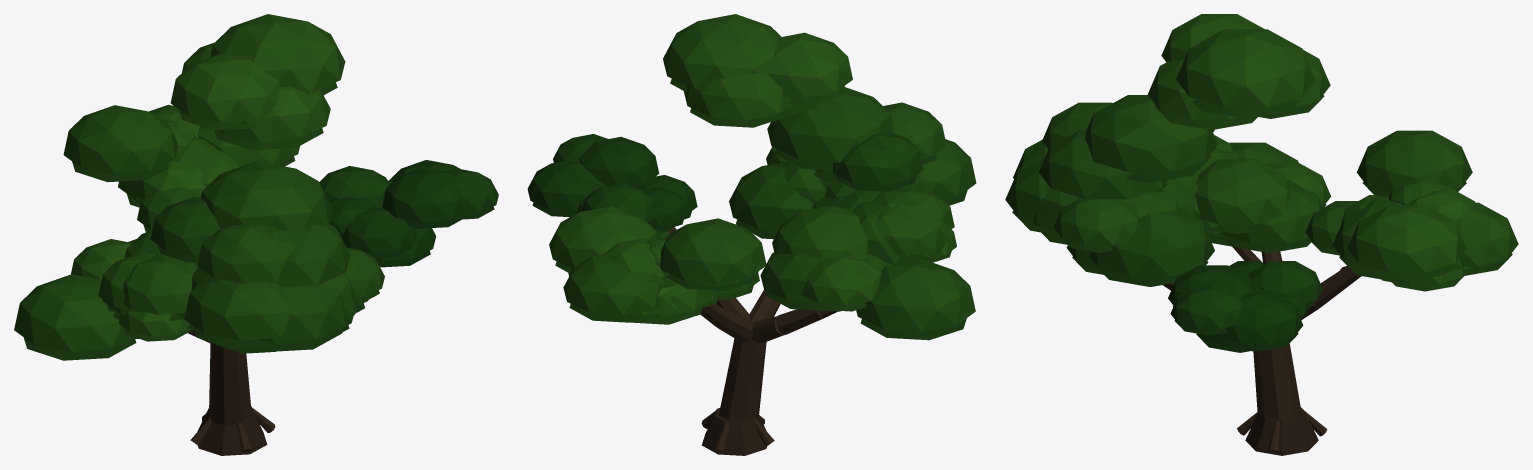
The model's file is tree_oak_2.glb.
The picture shows the model from 3 angles, left to right: view 1: azimuth 30°, elevation 25°; view 2: azimuth 150°, elevation 25°; view 3: azimuth 270°, elevation 25°; orthographic projection. The views are drawn at different scales.
Parts seen in each view (by area): view 1: leaf, wood; view 2: leaf, wood; view 3: leaf, wood.
Part boxes in pixels (x1,y1,x2,y2): leaf: (14, 14, 498, 360); wood: (187, 330, 275, 455); leaf: (527, 14, 976, 340); wood: (668, 227, 837, 455); leaf: (1005, 14, 1518, 352); wood: (1163, 247, 1361, 455).
Bounding box in the file's own units: 11.16 × 10.02 × 11.16.
